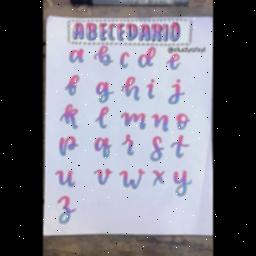a: (71, 22, 85, 40)
b: (85, 20, 99, 42)
c: (108, 20, 118, 42)
d: (125, 20, 139, 42)
e: (98, 22, 108, 44)
i: (162, 22, 170, 44)
o: (169, 20, 183, 42)
r: (150, 18, 164, 44)
